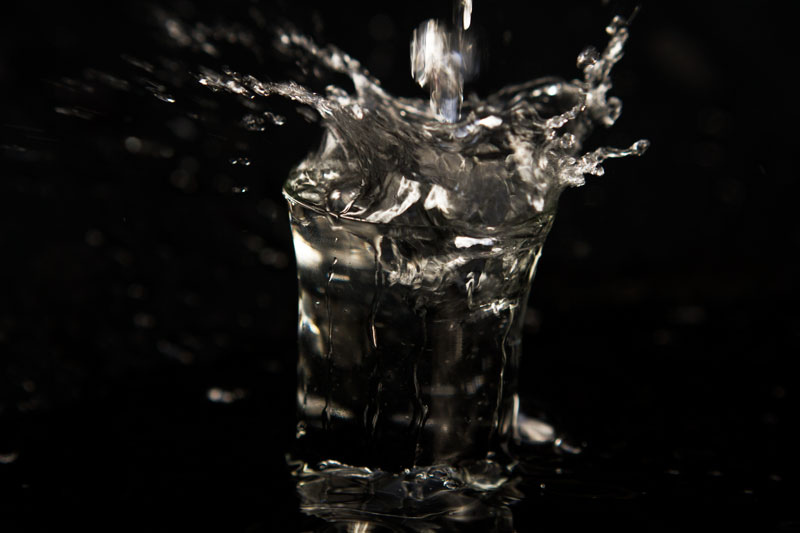glass of water: (278, 142, 527, 459)
